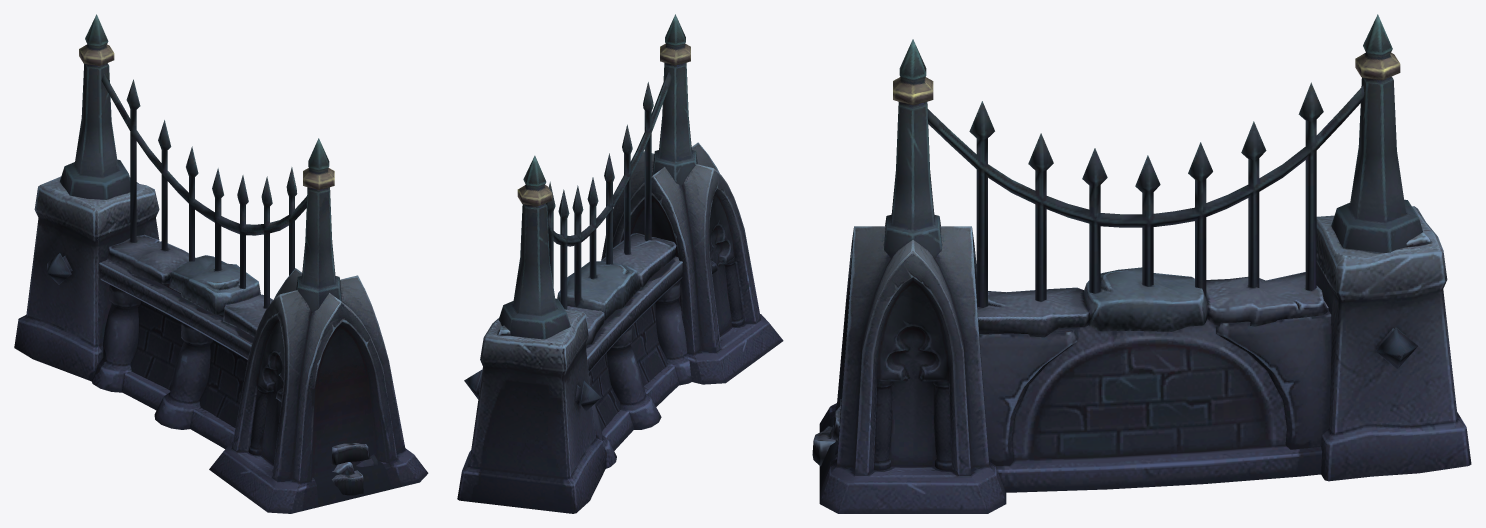
File: Wall_03.obj
3 renders of one model, left to right at view 1: azimuth 30°, elevation 25°; view 2: azimuth 150°, elevation 25°; view 3: azimuth 270°, elevation 25°, orthographic. The views are drawn at different scales.
Visible parts, largest first — view 1: Storm_Building_WinterCrest_Wall_0; view 2: Storm_Building_WinterCrest_Wall_0; view 3: Storm_Building_WinterCrest_Wall_0.
Part boxes in pixels (x1,y1,x2,y2): Storm_Building_WinterCrest_Wall_0: [14, 14, 428, 513]; Storm_Building_WinterCrest_Wall_0: [457, 14, 783, 513]; Storm_Building_WinterCrest_Wall_0: [812, 14, 1471, 513].
Size of the model in its own units: 364 by 645 by 894.
1 material, 1 textured.
